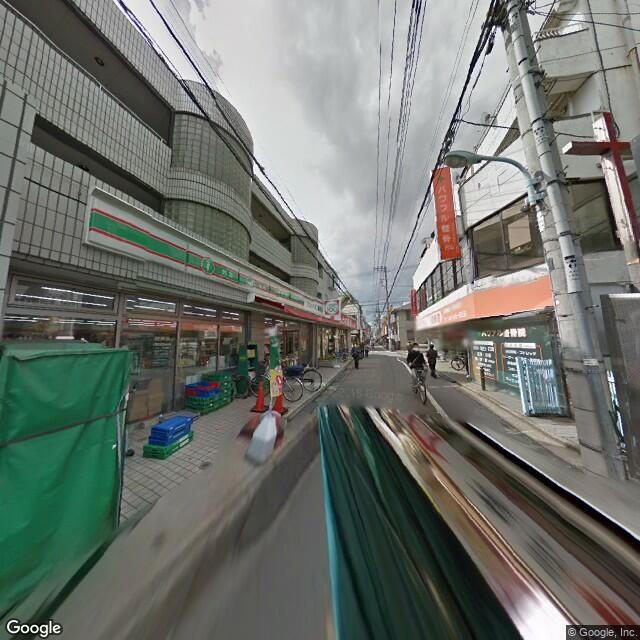lawson: (84, 194, 327, 329), (323, 296, 342, 322)
